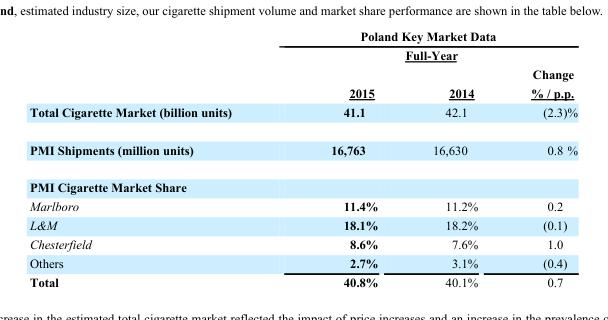table: (29, 28, 576, 288)
table column: (29, 28, 280, 288), (280, 28, 404, 288), (404, 28, 503, 288), (503, 28, 576, 288)
table column header: (29, 28, 576, 101)
table projected row header: (29, 168, 576, 196)
table row: (29, 130, 576, 168), (29, 64, 576, 101), (29, 28, 576, 64), (29, 101, 576, 130), (29, 168, 576, 196), (29, 196, 576, 215), (29, 215, 576, 234), (29, 234, 576, 253), (29, 253, 576, 272), (29, 272, 576, 288)
table spanning cell: (280, 28, 576, 64)
